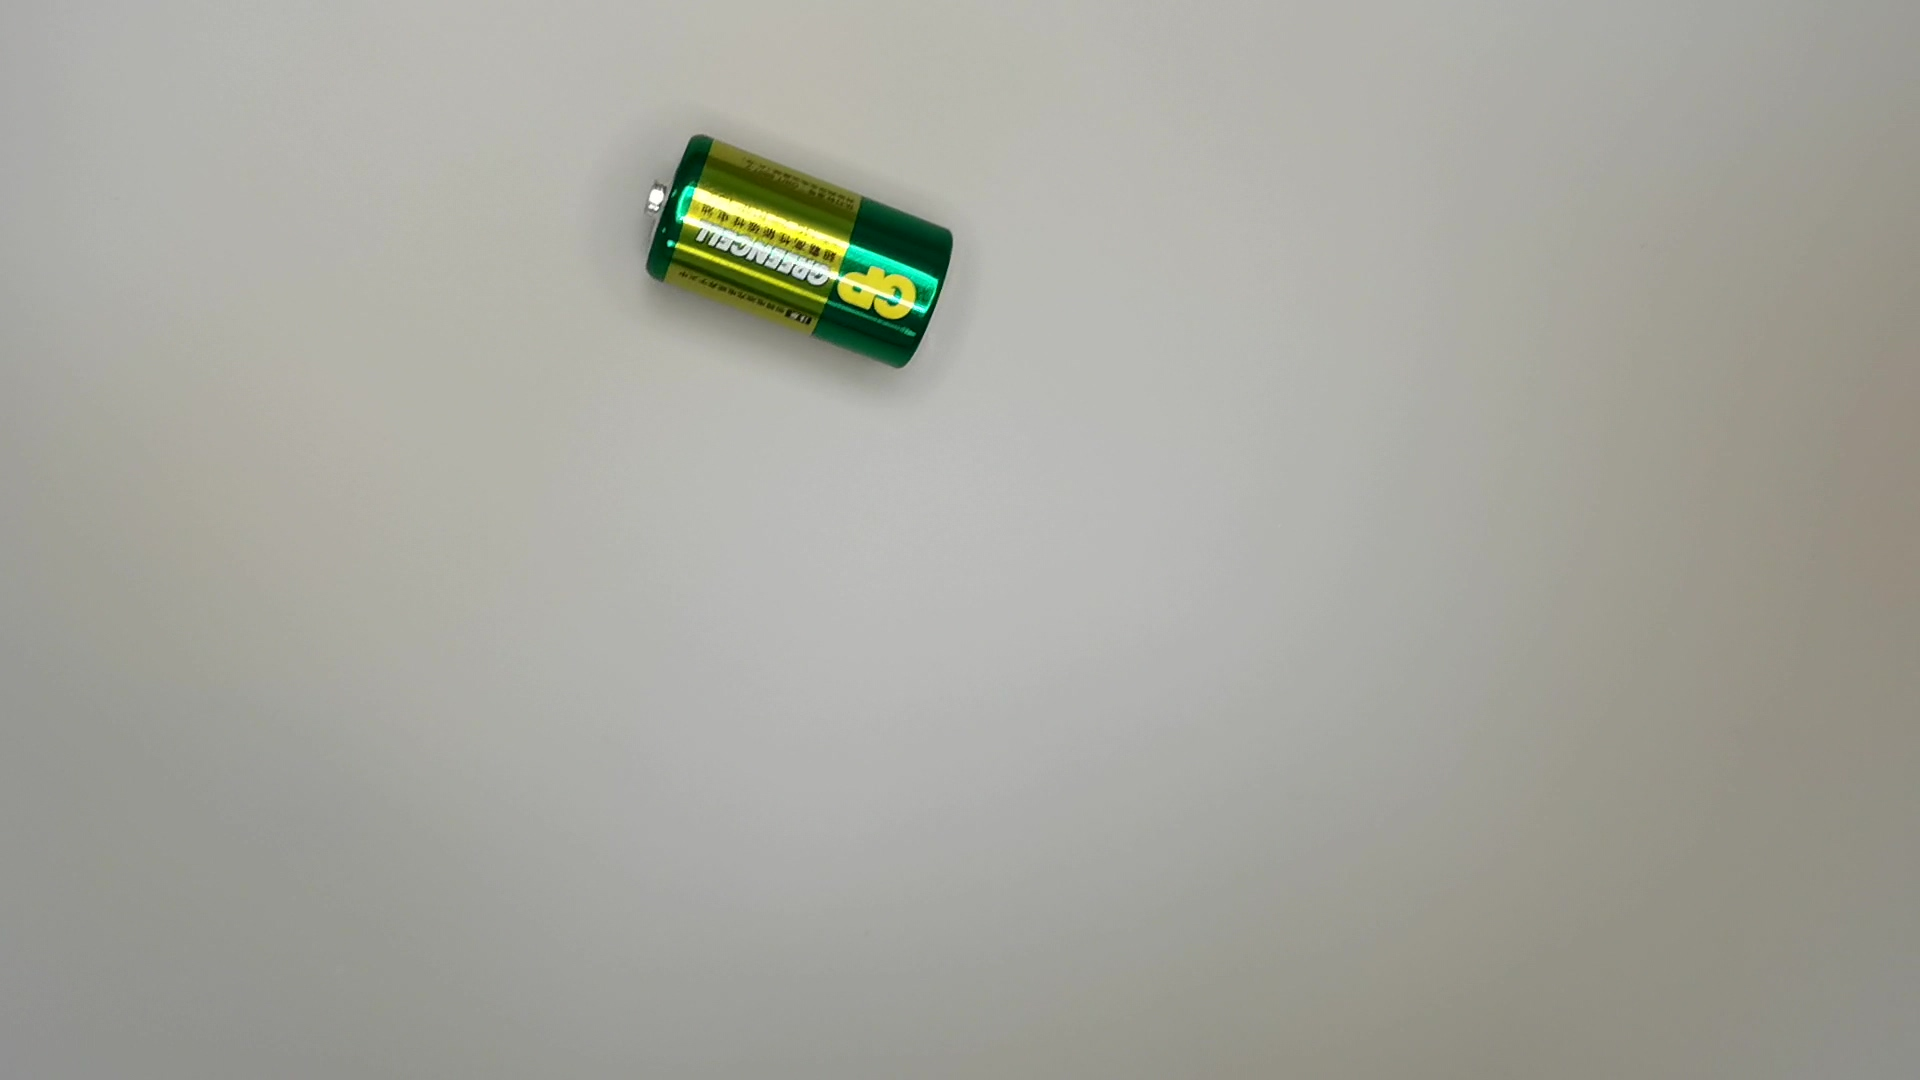battery: (637, 132, 967, 378)
